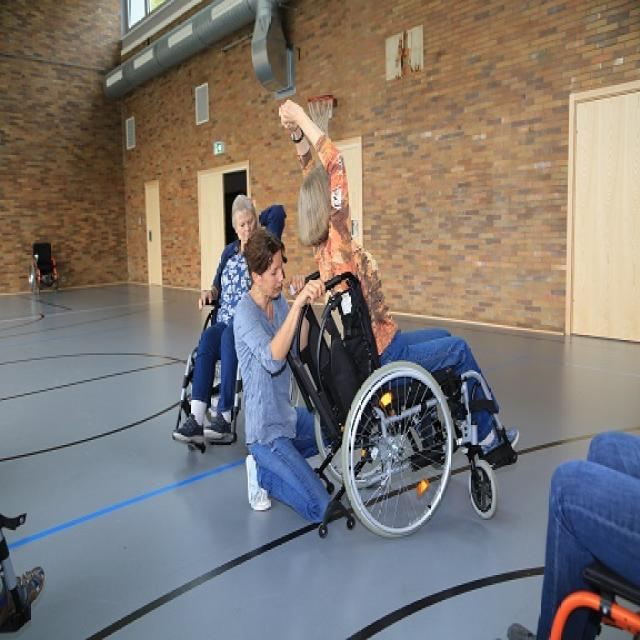wheelchairs: (291, 266, 535, 539), (25, 237, 72, 301)
